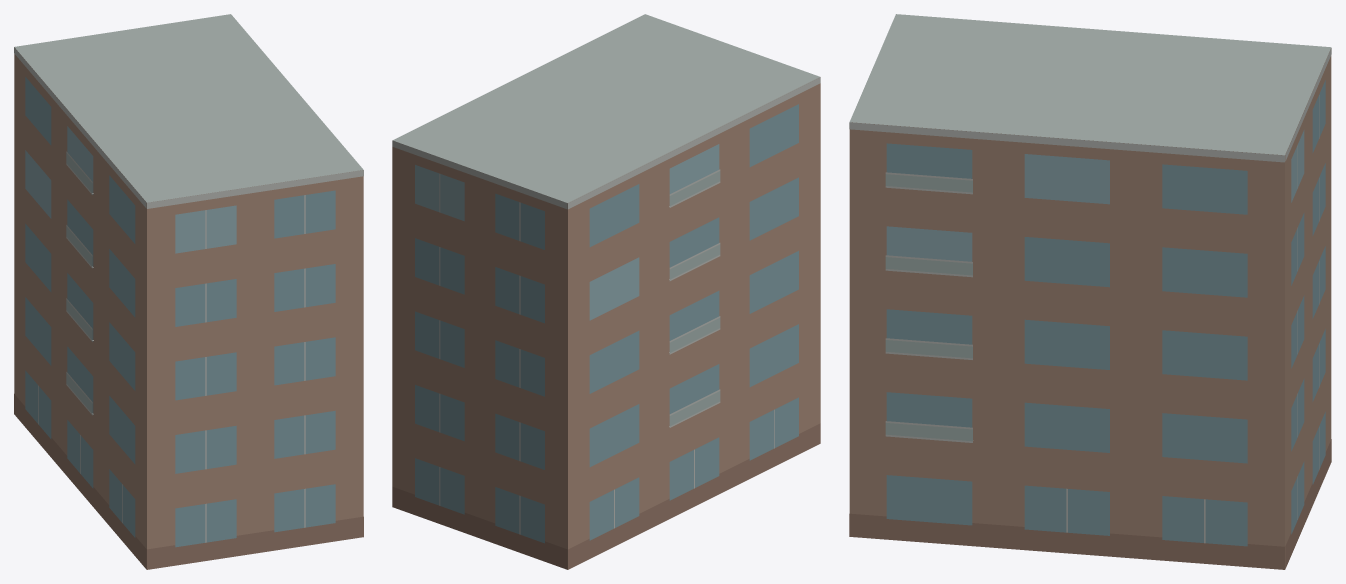
The model's file is survey-upis-32537227.glb.
3 renders of one model, left to right at view 1: azimuth 30°, elevation 25°; view 2: azimuth 150°, elevation 25°; view 3: azimuth 270°, elevation 25°, orthographic. The views are drawn at different scales.
Visible parts, largest first — view 1: survey-upis-32537227.tmp; view 2: survey-upis-32537227.tmp; view 3: survey-upis-32537227.tmp.
Boxes of the visible parts, left/top/right/bottom form: survey-upis-32537227.tmp: left=14, top=14, right=363, bottom=569; survey-upis-32537227.tmp: left=392, top=14, right=820, bottom=569; survey-upis-32537227.tmp: left=849, top=14, right=1331, bottom=569.
Bounding box in the file's own units: 10.32 × 14.1 × 14.87.
